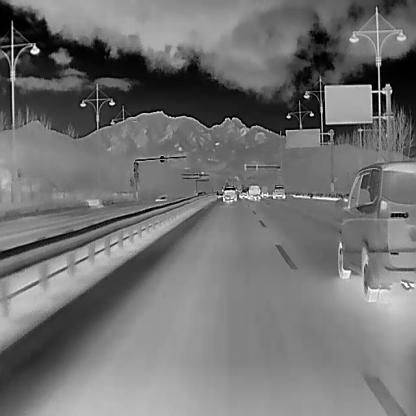car: (336, 159, 415, 303), (220, 186, 237, 202), (246, 183, 261, 200), (272, 184, 285, 199), (238, 188, 248, 198)
